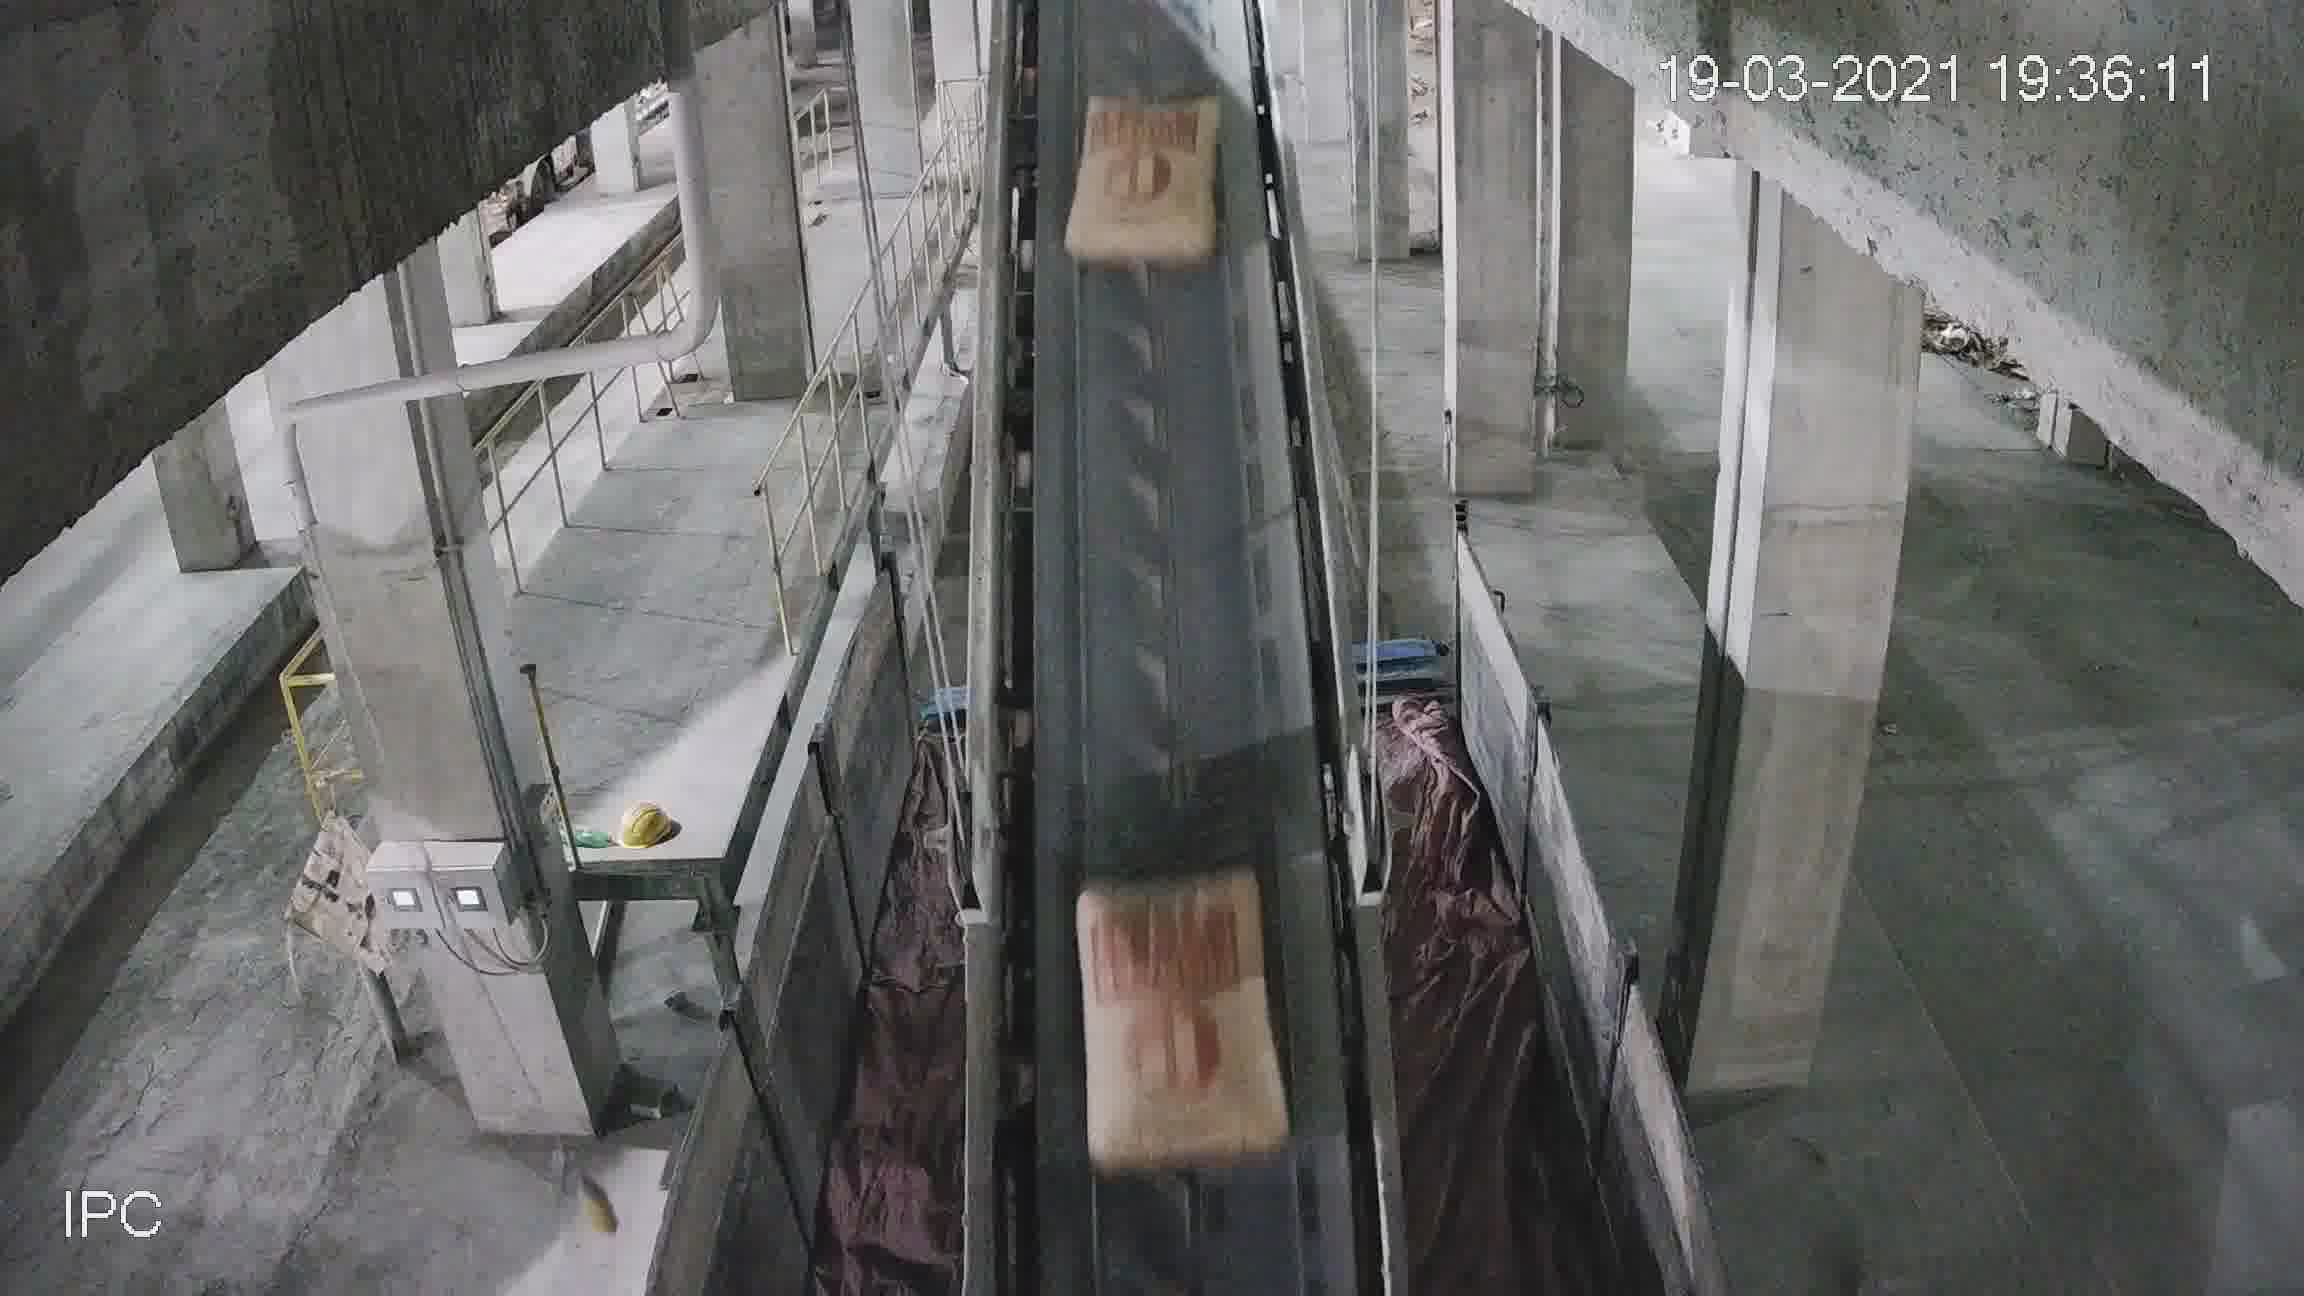bag: (1078, 870, 1285, 1180), (1071, 100, 1215, 256)
belt: (956, 22, 1351, 1195)
